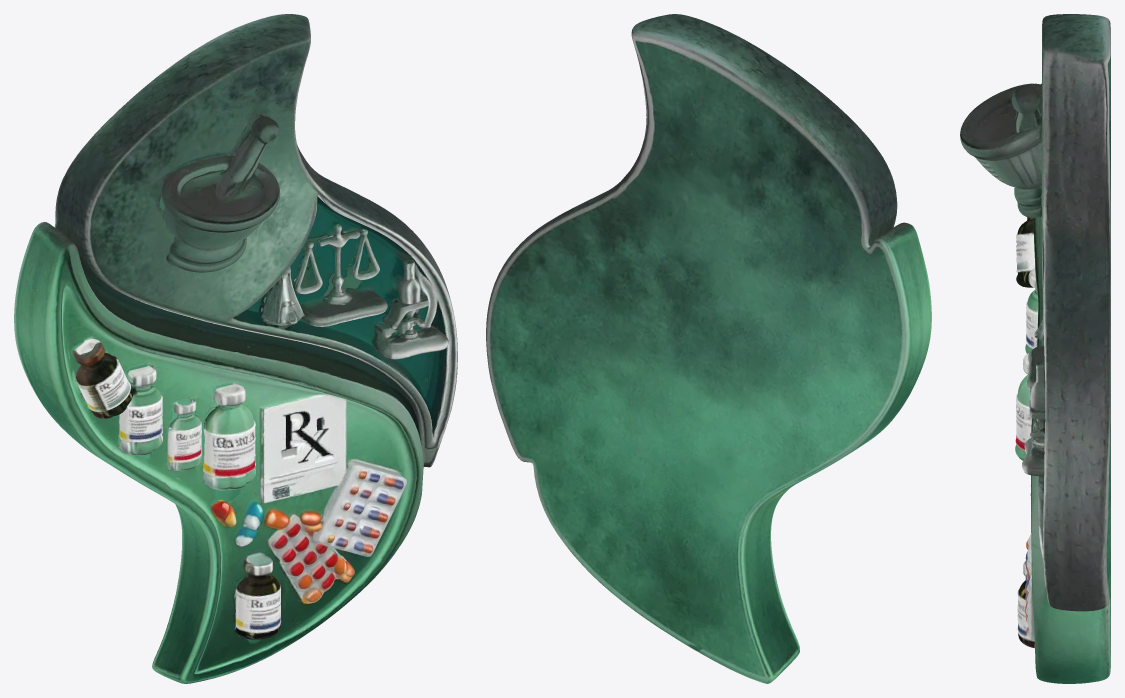
The model's file is opt_the_yin_yang_yin_yang_med.glb.
The picture shows the model from 3 angles, left to right: view 1: azimuth 30°, elevation 25°; view 2: azimuth 150°, elevation 25°; view 3: azimuth 270°, elevation 25°; orthographic projection. The views are drawn at different scales.
Size of the model in its own units: 1.36 by 1.9 by 0.3865.
1 material, 1 textured.
